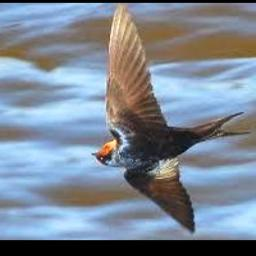Swallow: (91, 4, 250, 234)
